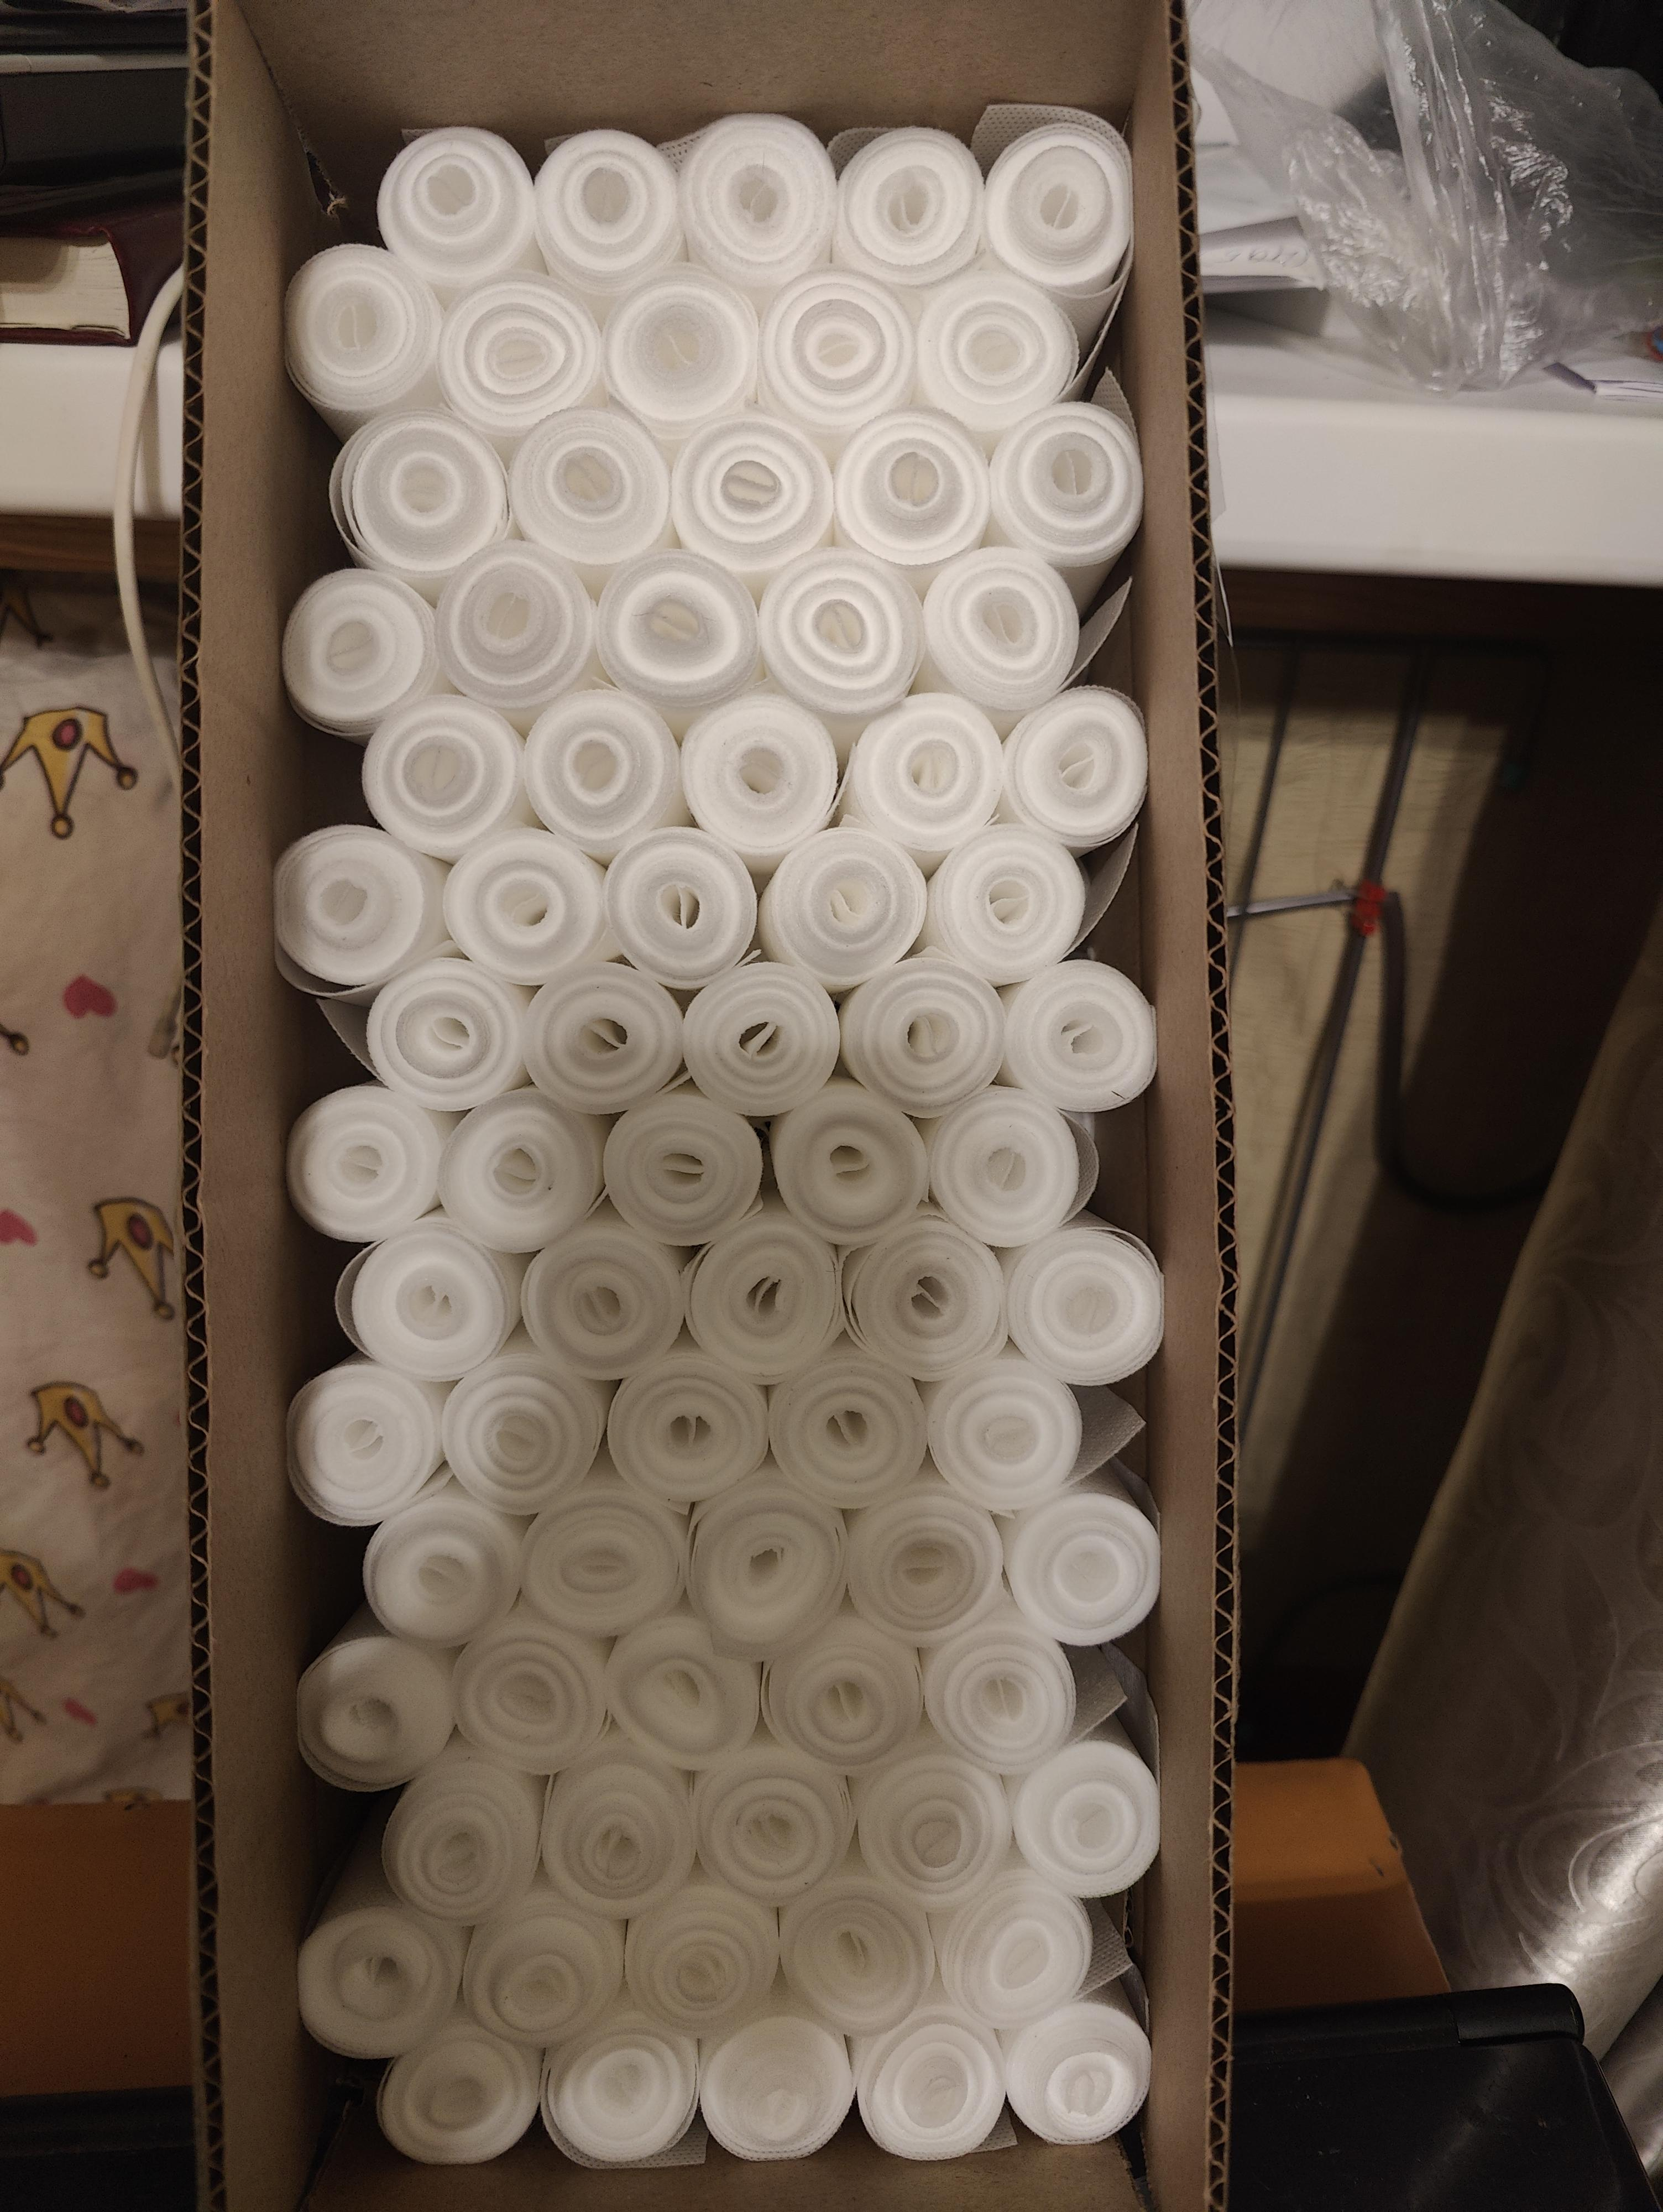roll: (279, 241, 445, 439), (328, 409, 505, 592), (505, 405, 676, 585), (674, 110, 840, 295), (433, 273, 606, 449), (376, 1747, 542, 1931), (837, 692, 1010, 865), (987, 397, 1149, 580), (674, 687, 845, 860), (592, 549, 765, 720), (292, 1621, 461, 1796), (755, 547, 922, 723), (374, 122, 540, 301), (976, 119, 1135, 304), (667, 411, 837, 584), (912, 266, 1080, 440), (437, 1351, 610, 1518), (683, 1473, 849, 1648), (517, 681, 685, 853), (269, 823, 440, 991), (536, 1747, 702, 1920), (917, 545, 1081, 720), (755, 267, 919, 442), (285, 1358, 451, 1529), (342, 1218, 515, 1382), (356, 692, 524, 860), (1003, 1223, 1170, 1391), (430, 543, 596, 713), (599, 271, 765, 440), (837, 1213, 1008, 1377), (519, 1216, 690, 1380), (278, 566, 442, 737), (438, 823, 611, 985), (835, 952, 1010, 1113), (919, 1614, 1083, 1784), (756, 826, 928, 989), (529, 124, 685, 302), (356, 1483, 522, 1649), (838, 1476, 1006, 1641), (1003, 1485, 1167, 1653), (620, 1875, 788, 2039), (293, 1892, 458, 2060), (433, 1087, 604, 1248), (683, 1738, 849, 1903), (830, 405, 992, 573), (449, 1609, 611, 1777), (774, 1866, 936, 2034), (851, 1742, 1011, 1911), (924, 821, 1090, 984), (1001, 683, 1156, 856), (765, 1613, 928, 1777), (919, 1351, 1085, 1511), (540, 2008, 707, 2167), (515, 1482, 685, 1639), (1010, 1735, 1167, 1904), (519, 954, 692, 1108), (921, 1083, 1087, 1242), (830, 122, 985, 292), (599, 1358, 770, 1511), (459, 1889, 622, 2050), (681, 1218, 845, 1377), (762, 1354, 928, 1511), (676, 959, 844, 1115), (360, 952, 531, 1104), (597, 1607, 758, 1768), (940, 1873, 1101, 2034), (374, 2016, 542, 2170), (851, 2006, 1010, 2165), (597, 1090, 767, 1239), (999, 961, 1160, 1115), (693, 2011, 854, 2165), (763, 1080, 928, 1230), (281, 1085, 447, 1234), (999, 1997, 1155, 2153), (603, 828, 753, 984)
